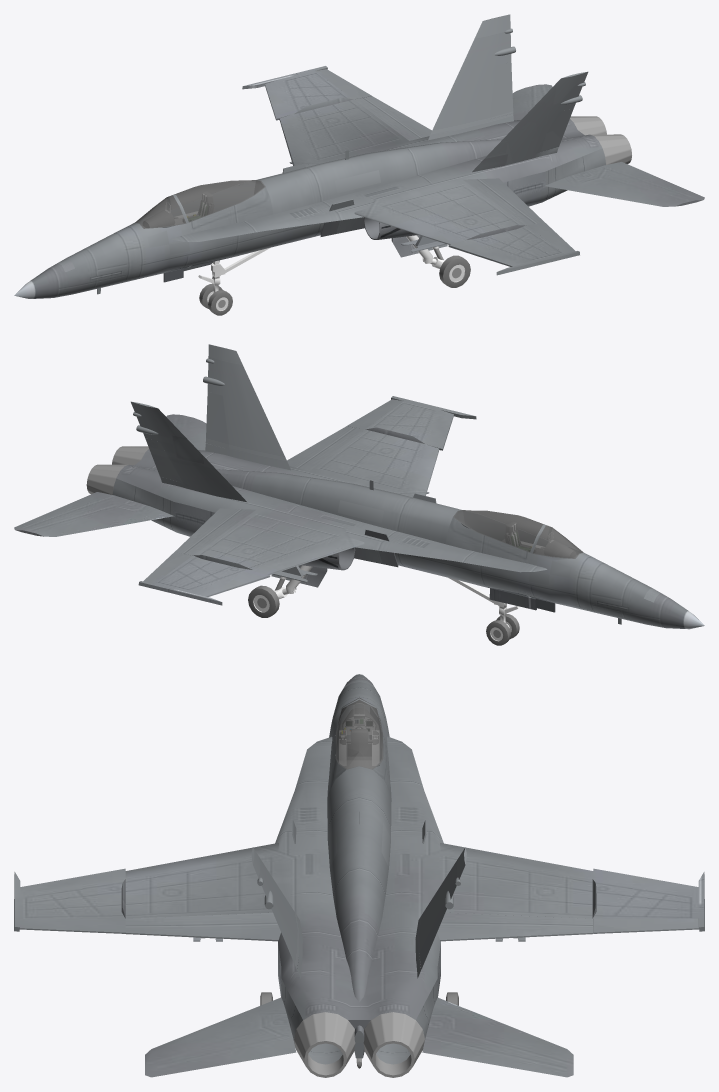
3 renders of one model, top to bottom at view 1: azimuth 30°, elevation 25°; view 2: azimuth 150°, elevation 25°; view 3: azimuth 270°, elevation 25°, orthographic. The views are drawn at different scales.
Visible parts, largest first — view 1: Body_default, Fuselage_Sides, Fuselage_default, DeriveRight_default, ElevatorLeft, DeriveLeft_default, Body_Sides, Canopy_Glass, FlapsLeft, FrontWheel, FlapsRight, Canopy_default (+8 smaller); view 2: Body_default, Fuselage_Sides, Fuselage_default, DeriveLeft_default, ElevatorRight, DeriveRight_default, Body_Sides, Canopy_Glass, FlapsRight, FlapsLeft, Canopy_default, RightWheel (+9 smaller); view 3: Body_default, Fuselage_default, ElevatorRight, ElevatorLeft, FlapsRight, FlapsLeft, Body_ReactorReflect, Body_Reactor, Canopy_Glass, Fuselage_Sides, Body_Sides, AileronRight (+3 smaller).
Part boxes in pixels (left/top/right/bottom): Body_default: left=172, top=66, right=602, bottom=275; Fuselage_Sides: left=14, top=187, right=324, bottom=298; Fuselage_default: left=162, top=139, right=502, bottom=227; DeriveRight_default: left=428, top=14, right=513, bottom=140; ElevatorLeft: left=545, top=162, right=704, bottom=206; DeriveLeft_default: left=472, top=71, right=588, bottom=172; Body_Sides: left=320, top=148, right=605, bottom=239; Canopy_Glass: left=135, top=180, right=265, bottom=228; FlapsLeft: left=463, top=178, right=544, bottom=225; FrontWheel: left=198, top=247, right=270, bottom=315; FlapsRight: left=354, top=96, right=431, bottom=140; Canopy_default: left=137, top=180, right=265, bottom=224; Body_default: left=116, top=396, right=547, bottom=605; Fuselage_Sides: left=394, top=517, right=704, bottom=629; Fuselage_default: left=216, top=469, right=468, bottom=544; DeriveLeft_default: left=205, top=344, right=290, bottom=470; ElevatorRight: left=14, top=492, right=174, bottom=536; DeriveRight_default: left=131, top=401, right=246, bottom=501; Body_Sides: left=113, top=478, right=398, bottom=570; Canopy_Glass: left=453, top=510, right=583, bottom=558; FlapsRight: left=174, top=508, right=255, bottom=555; FlapsLeft: left=287, top=426, right=364, bottom=470; Canopy_default: left=454, top=510, right=582, bottom=556; RightWheel: left=248, top=565, right=312, bottom=617; Body_default: left=14, top=735, right=704, bottom=1028; Fuselage_default: left=327, top=708, right=391, bottom=1036; ElevatorRight: left=422, top=997, right=573, bottom=1077; ElevatorLeft: left=145, top=997, right=296, bottom=1077; FlapsRight: left=437, top=912, right=593, bottom=941; FlapsLeft: left=125, top=912, right=280, bottom=941; Body_ReactorReflect: left=294, top=1013, right=424, bottom=1064; Body_Reactor: left=294, top=1012, right=424, bottom=1077; Canopy_Glass: left=335, top=697, right=383, bottom=769; Fuselage_Sides: left=327, top=674, right=391, bottom=1058; Body_Sides: left=278, top=943, right=440, bottom=1064; AileronRight: left=593, top=918, right=698, bottom=933.
Size of the model in its own units: 15.39 by 4.49 by 11.05.
19 materials, 6 textured.
